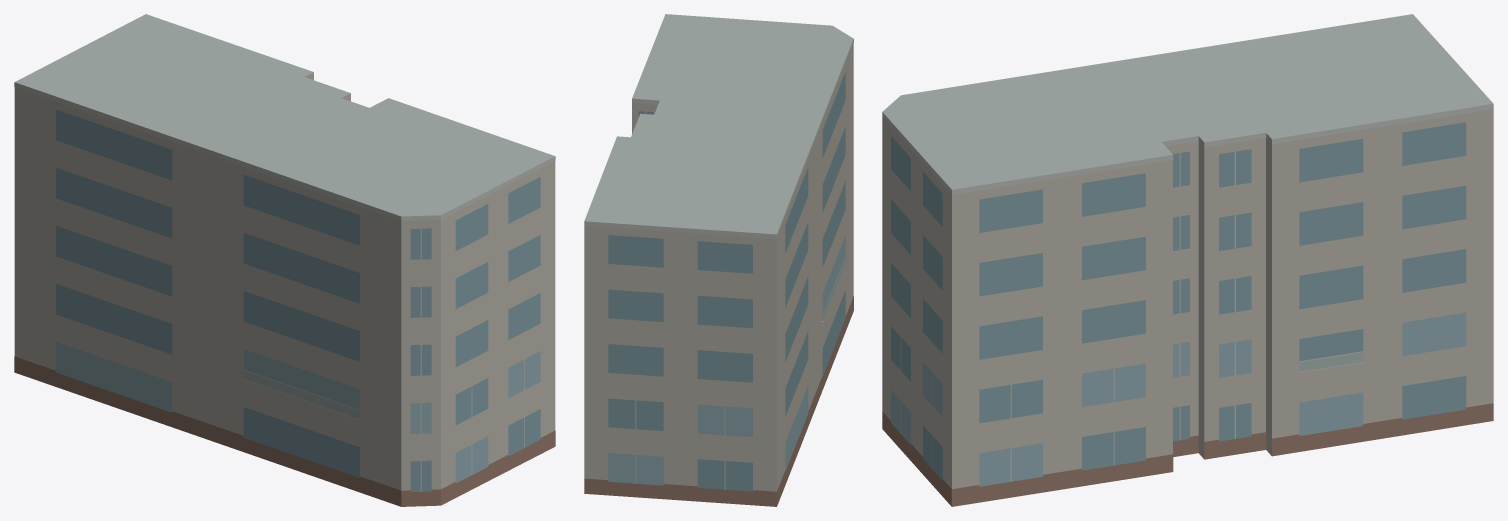
The model's file is survey-upis-33013117.glb.
3 renders of one model, left to right at view 1: azimuth 30°, elevation 25°; view 2: azimuth 150°, elevation 25°; view 3: azimuth 270°, elevation 25°, orthographic. The views are drawn at different scales.
Visible parts, largest first — view 1: survey-upis-33013117.tmp; view 2: survey-upis-33013117.tmp; view 3: survey-upis-33013117.tmp.
Boxes of the visible parts, x1,y1,x2,y2 form: survey-upis-33013117.tmp: [14, 14, 555, 506]; survey-upis-33013117.tmp: [584, 14, 853, 506]; survey-upis-33013117.tmp: [882, 14, 1493, 506].
Size of the model in its own units: 17.72 by 14.9 by 26.04.
